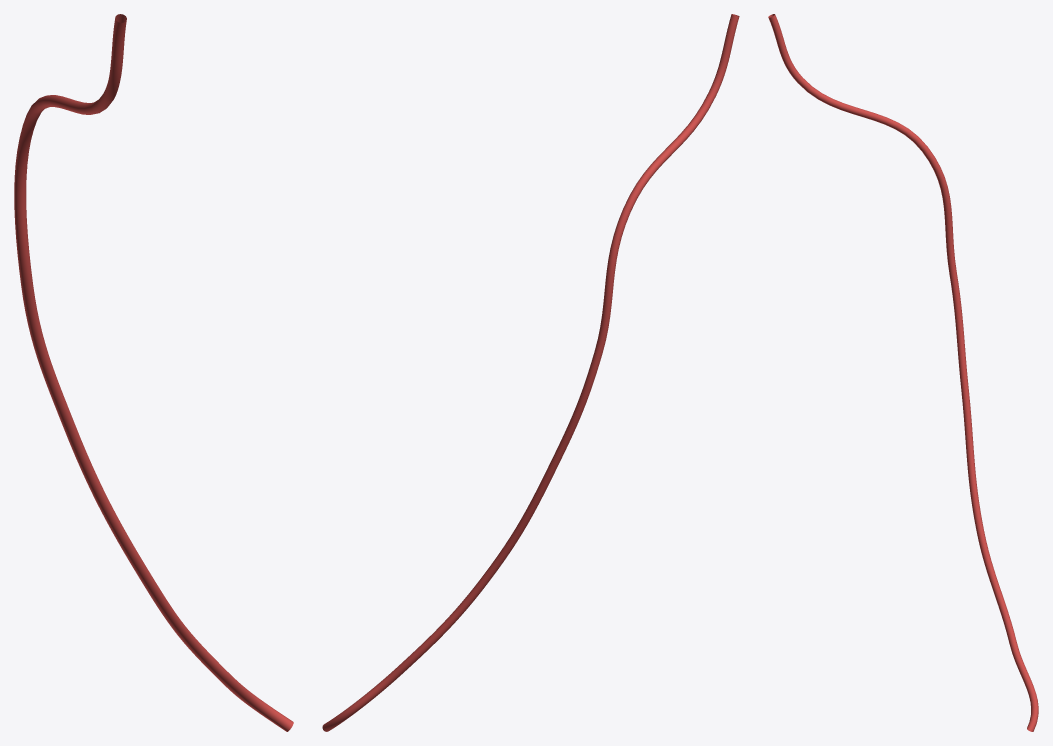
3 views of the same model, side by side, from view 1: azimuth 30°, elevation 25°; view 2: azimuth 150°, elevation 25°; view 3: azimuth 270°, elevation 25° (orthographic). The views are drawn at different scales.
Parts seen in each view (by area): view 1: 右侧腭大动脉; view 2: 右侧腭大动脉; view 3: 右侧腭大动脉.
Boxes of the visible parts, box(x1,y1,x2,y2) form: 右侧腭大动脉: box(14, 14, 293, 731); 右侧腭大动脉: box(322, 14, 739, 731); 右侧腭大动脉: box(768, 14, 1038, 731).
Bounding box in the file's own units: 0.0216 × 0.0516 × 0.021.
